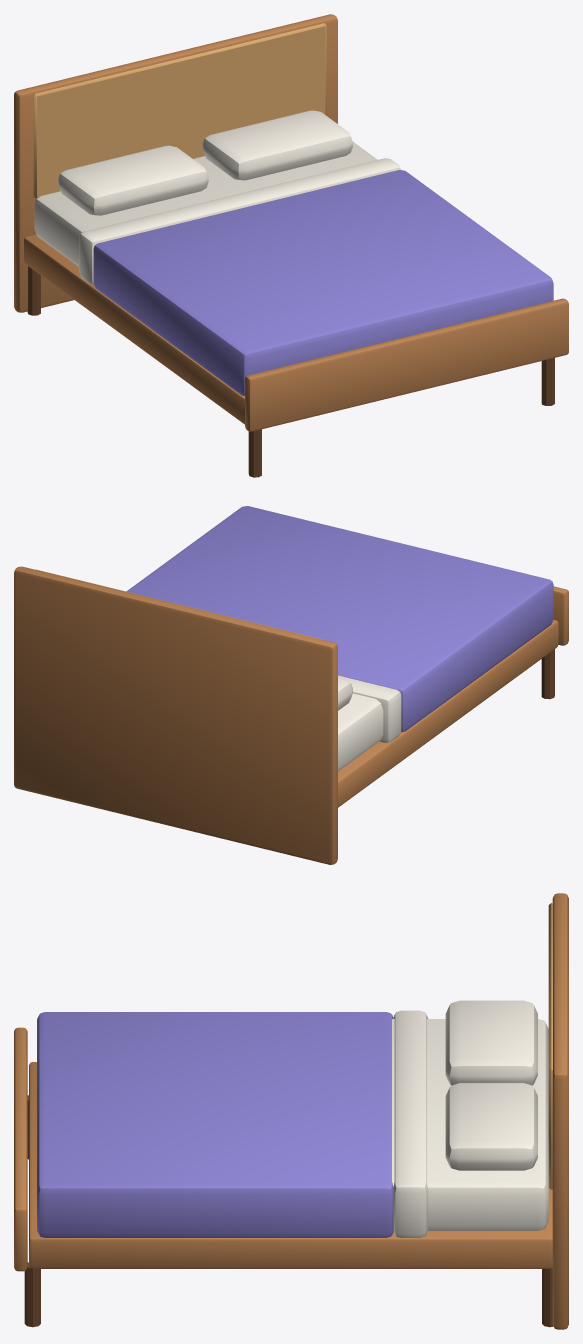
File: bed.glb
3 views of the same model, one above another, from view 1: azimuth 30°, elevation 25°; view 2: azimuth 150°, elevation 25°; view 3: azimuth 270°, elevation 25° (orthographic). The views are drawn at different scales.
Parts seen in each view (by area): view 1: body; view 2: body; view 3: body.
Boxes of the visible parts, x1,y1,x2,y2 form: body: (14, 14, 568, 477); body: (14, 506, 568, 864); body: (14, 893, 568, 1329).
Bounding box in the file's own units: 160 × 105 × 205.
